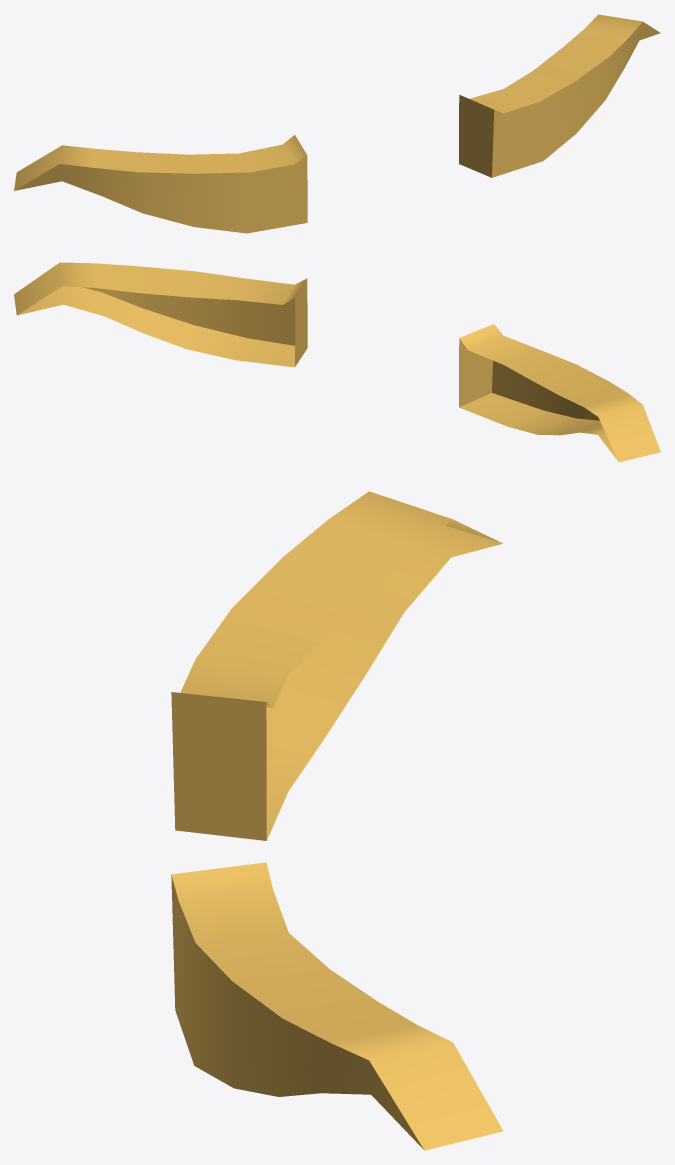
The model's file is Brow_Yellow_4.fbx.
The picture shows the model from 3 angles, top to bottom: view 1: azimuth 30°, elevation 25°; view 2: azimuth 150°, elevation 25°; view 3: azimuth 270°, elevation 25°; orthographic projection. The views are drawn at different scales.
Parts seen in each view (by area): view 1: Brow_Yellow_4; view 2: Brow_Yellow_4; view 3: Brow_Yellow_4.
Boxes of the visible parts, left/top/right/bottom form: Brow_Yellow_4: left=14, top=14, right=660, bottom=233; Brow_Yellow_4: left=14, top=262, right=660, bottom=462; Brow_Yellow_4: left=171, top=491, right=502, bottom=1150.
Bounding box in the file's own units: 37.59 × 4.15 × 8.36.
